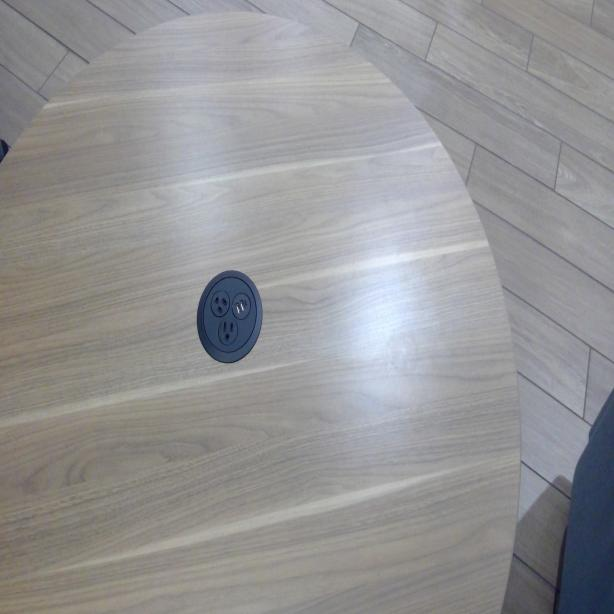typeb: (213, 290, 228, 316), (220, 320, 236, 344)
